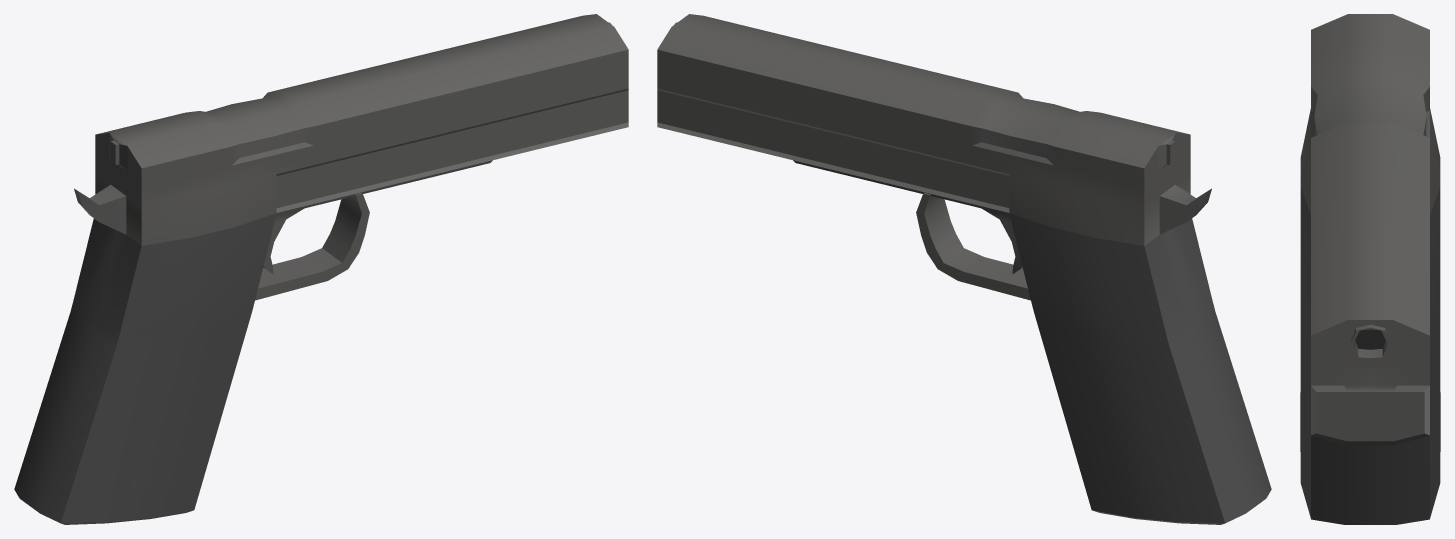
The model's file is Model_Pistol.fbx.
3 views of the same model, side by side, from view 1: azimuth 30°, elevation 25°; view 2: azimuth 150°, elevation 25°; view 3: azimuth 270°, elevation 25° (orthographic). The views are drawn at different scales.
Parts seen in each view (by area): view 1: Pistol; view 2: Pistol; view 3: Pistol.
Part boxes in pixels (x1=…): Pistol: x1=14, y1=14, x2=628, y2=524; Pistol: x1=657, y1=14, x2=1271, y2=524; Pistol: x1=1300, y1=14, x2=1440, y2=524.
Size of the model in its own units: 8.66 by 5.26 by 1.41.
1 material, 1 textured.
